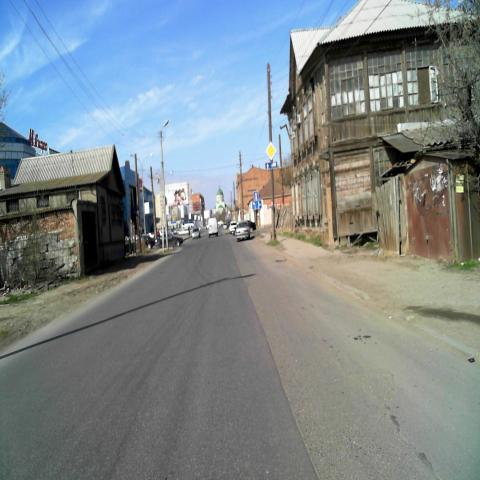6_15_1: (264, 161, 278, 170)
